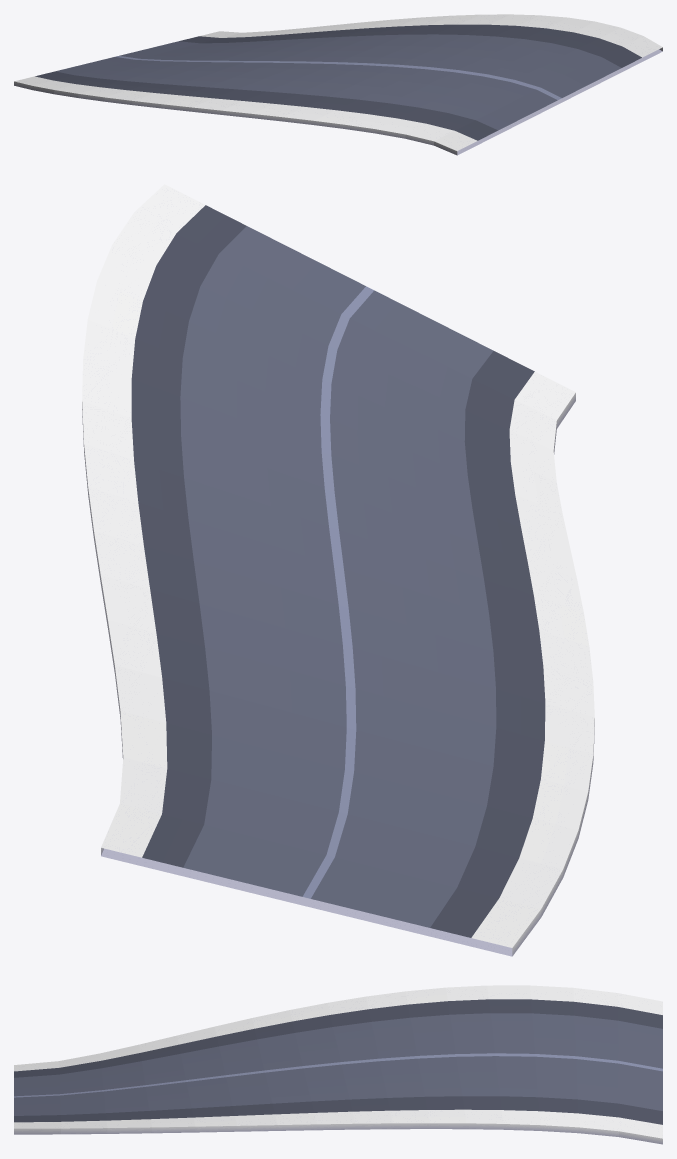
The model's file is road-Chicane-HalfBankedLeft-BiSlopeDown-Down1-Left1-Size2.glb.
3 renders of one model, top to bottom at view 1: azimuth 30°, elevation 25°; view 2: azimuth 150°, elevation 25°; view 3: azimuth 270°, elevation 25°, orthographic. The views are drawn at different scales.
Visible parts, largest first — view 1: road-Chicane-HalfBankedLeft-BiSlopeDown-Down1-Left1-Size2; view 2: road-Chicane-HalfBankedLeft-BiSlopeDown-Down1-Left1-Size2; view 3: road-Chicane-HalfBankedLeft-BiSlopeDown-Down1-Left1-Size2.
Part boxes in pixels (x1,y1,x2,y2): road-Chicane-HalfBankedLeft-BiSlopeDown-Down1-Left1-Size2: (14, 14, 662, 155); road-Chicane-HalfBankedLeft-BiSlopeDown-Down1-Left1-Size2: (82, 184, 594, 956); road-Chicane-HalfBankedLeft-BiSlopeDown-Down1-Left1-Size2: (14, 985, 662, 1144).
Size of the model in its own units: 2 by 0.52 by 2.
Materials: 1 (1 with a texture image).
